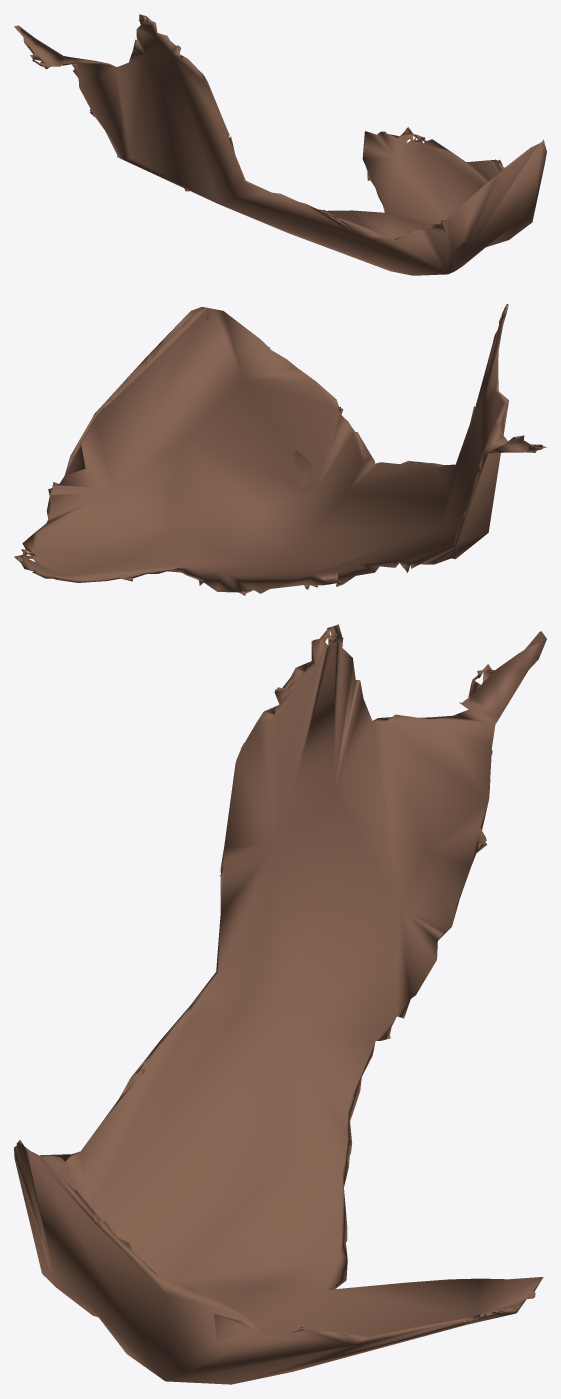
Rendered from Beard_stubble_LOD2.glb.
3 renders of one model, top to bottom at view 1: azimuth 30°, elevation 25°; view 2: azimuth 150°, elevation 25°; view 3: azimuth 270°, elevation 25°, orthographic. The views are drawn at different scales.
Parts seen in each view (by area): view 1: Beard_stubble_LOD2; view 2: Beard_stubble_LOD2; view 3: Beard_stubble_LOD2.
Part boxes in pixels (x1,y1,x2,y2): Beard_stubble_LOD2: [14, 14, 546, 275]; Beard_stubble_LOD2: [14, 304, 546, 595]; Beard_stubble_LOD2: [14, 624, 546, 1384].
Bounding box in the file's own units: 0.1885 × 0.116 × 0.1147.
